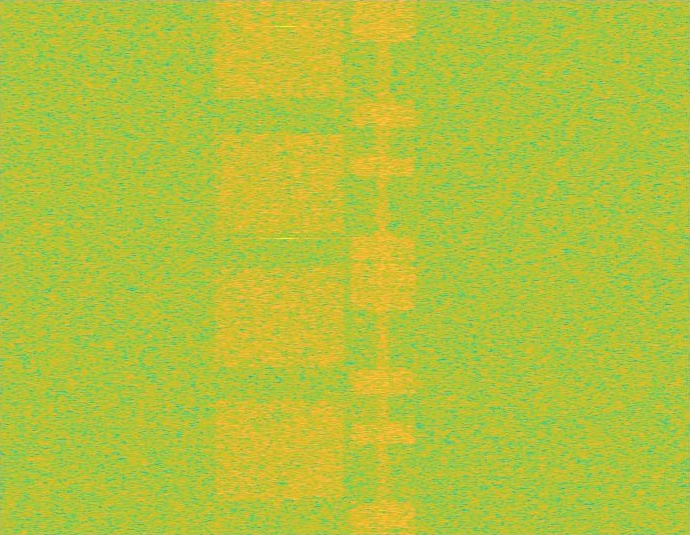5G: (211, 0, 349, 534)
DSSS: (375, 0, 391, 534)
LTE: (349, 0, 418, 534)
Radar: (279, 0, 293, 534)
